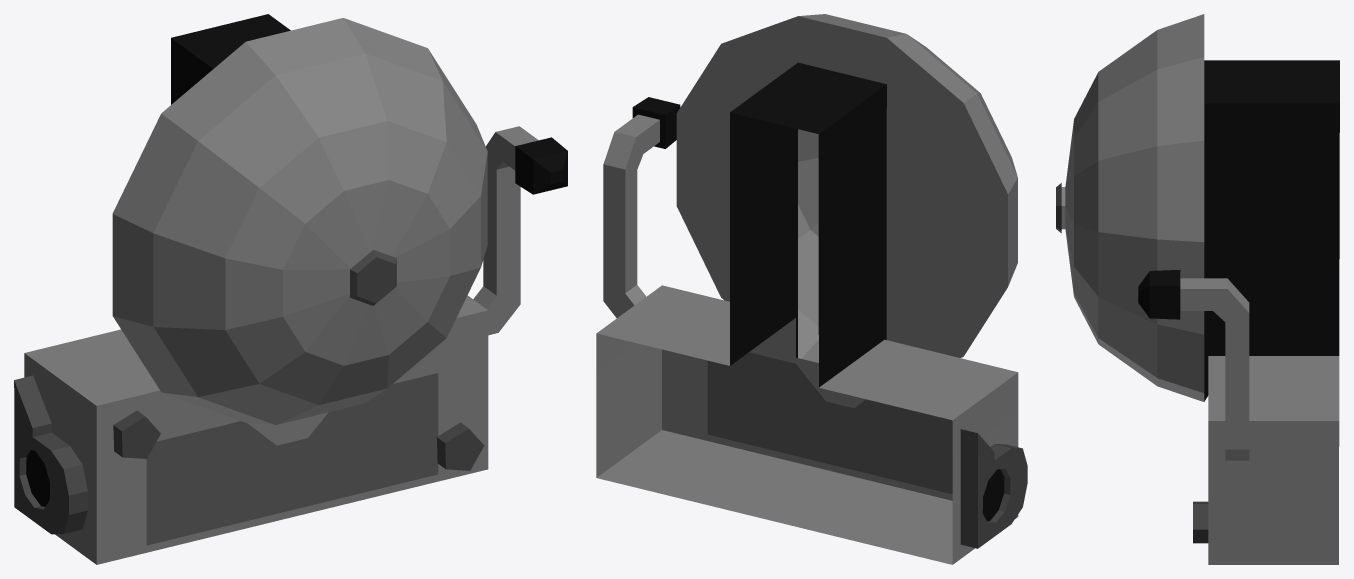
Rendered from Int_SchoolBell01.fbx.
3 views of the same model, side by side, from view 1: azimuth 30°, elevation 25°; view 2: azimuth 150°, elevation 25°; view 3: azimuth 270°, elevation 25° (orthographic). The views are drawn at different scales.
Parts seen in each view (by area): view 1: Int_SchoolBell01; view 2: Int_SchoolBell01; view 3: Int_SchoolBell01.
Part boxes in pixels (box(x1,y1,x2,y2)): Int_SchoolBell01: box(14, 14, 567, 564); Int_SchoolBell01: box(596, 14, 1027, 564); Int_SchoolBell01: box(1056, 14, 1339, 564).
Size of what is drawn, in the model's own units: 40.31 by 23.86 by 41.08.
